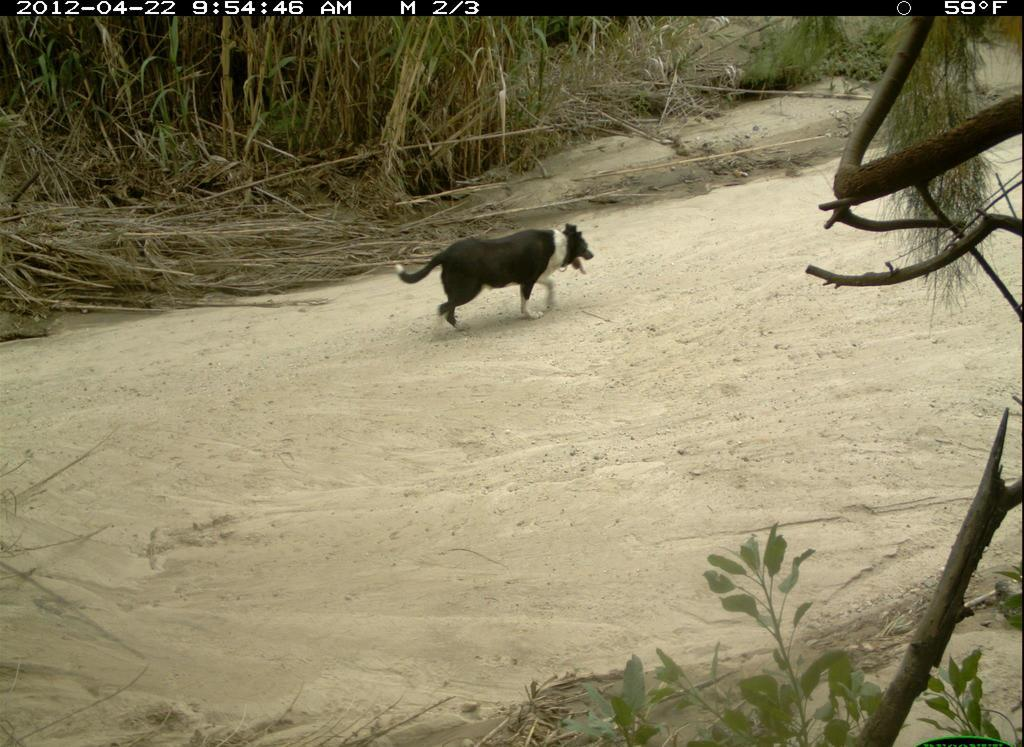dog: (390, 221, 601, 342)
